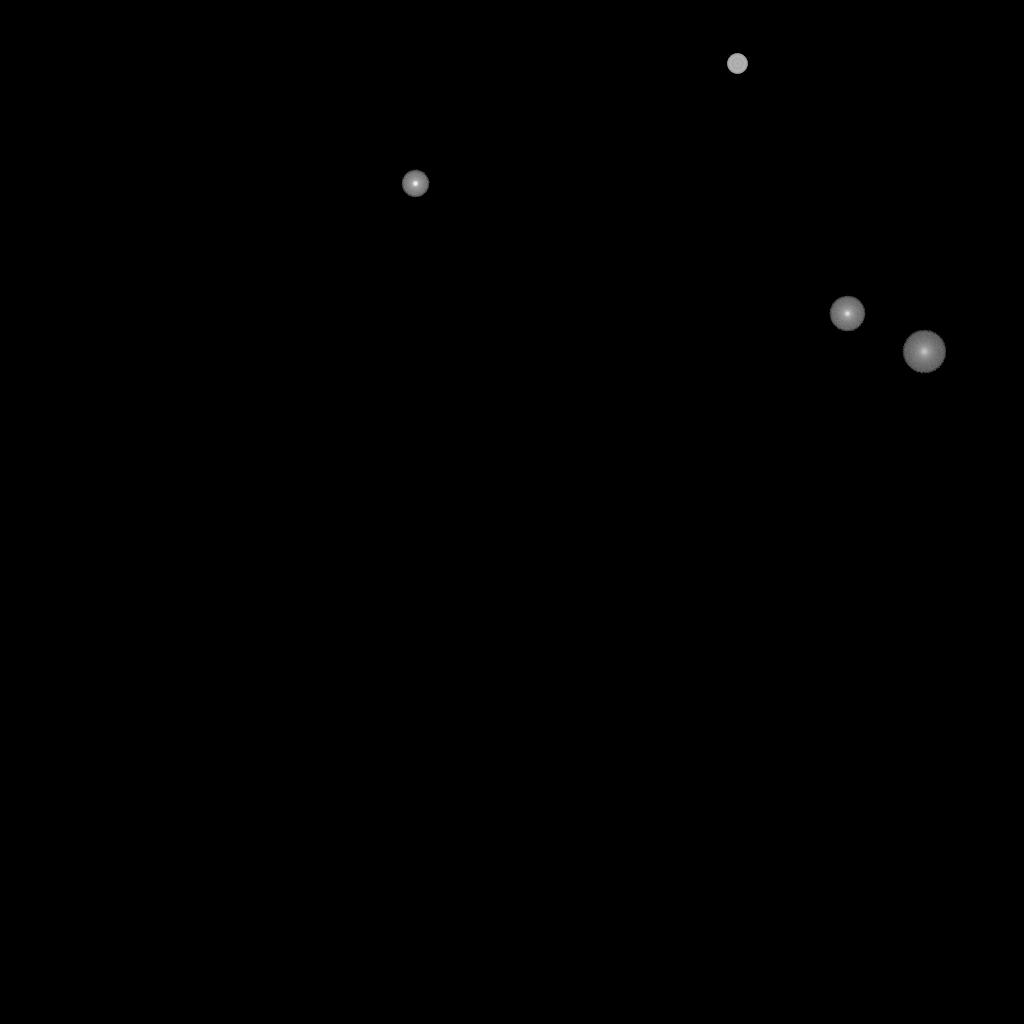depth:-10: (401, 170, 429, 198)
depth:-40: (727, 54, 747, 74)
depth:0: (829, 296, 865, 332)
depth:10: (902, 330, 946, 374)
